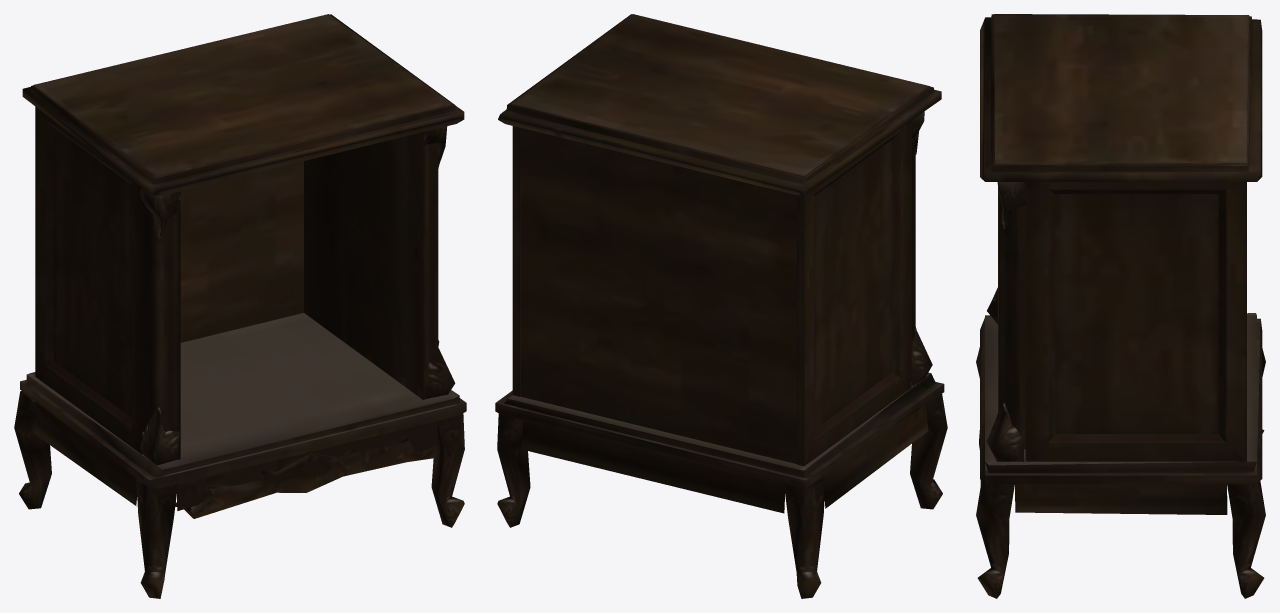
Rendered from nightstand.glb.
The picture shows the model from 3 angles, left to right: view 1: azimuth 30°, elevation 25°; view 2: azimuth 150°, elevation 25°; view 3: azimuth 270°, elevation 25°; orthographic projection. The views are drawn at different scales.
Parts seen in each view (by area): view 1: ClassicNightstand_01; view 2: ClassicNightstand_01; view 3: ClassicNightstand_01.
Part boxes in pixels (left/top/right/bottom): ClassicNightstand_01: left=14, top=14, right=466, bottom=598; ClassicNightstand_01: left=495, top=14, right=947, bottom=598; ClassicNightstand_01: left=976, top=14, right=1265, bottom=598.
Bounding box in the file's own units: 0.5656 × 0.7 × 0.4242.
Materials: 1 (1 with a texture image).
